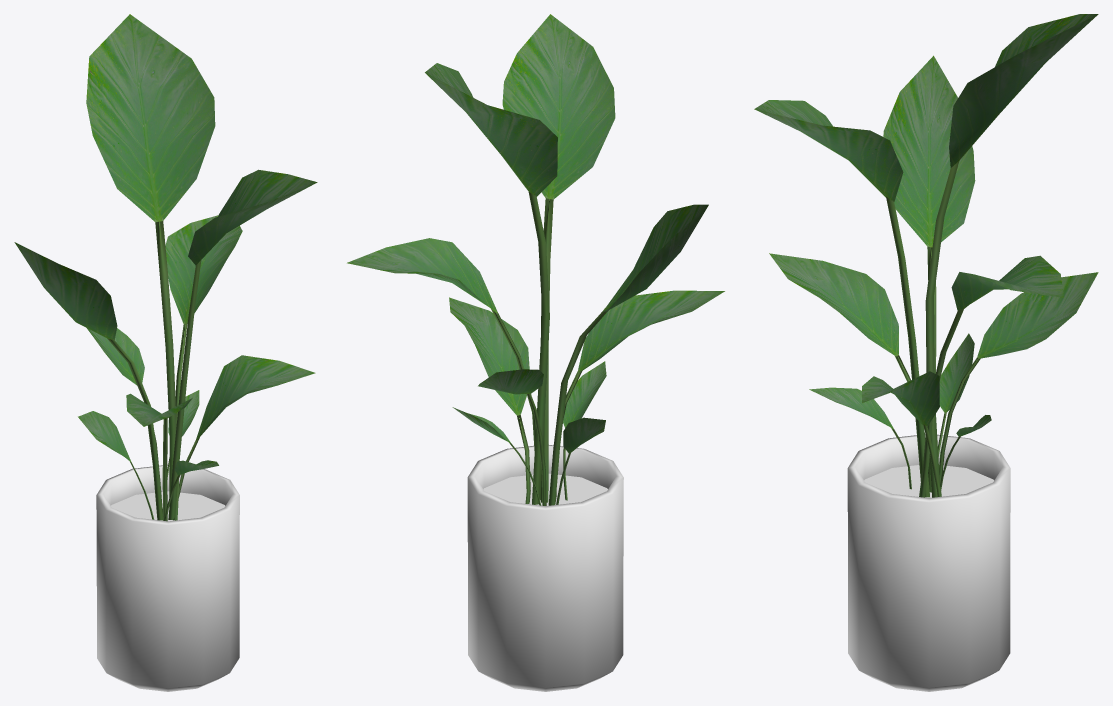
File: Plant.fbx
3 views of the same model, side by side, from view 1: azimuth 30°, elevation 25°; view 2: azimuth 150°, elevation 25°; view 3: azimuth 270°, elevation 25° (orthographic). The views are drawn at different scales.
Visible parts, largest first — view 1: Cube.002, Plane.003, Plane.001, Plane, Plane.010, Plane.005, Circle, Plane.004, Plane.006, Plane.008, Plane.007, Plane.009; view 2: Cube.002, Plane.001, Plane.003, Plane, Plane.010, Plane.004, Plane.005, Circle, Plane.006, Plane.007, Plane.008, Plane.009; view 3: Cube.002, Plane, Plane.003, Plane.001, Plane.004, Plane.006, Plane.010, Plane.005, Circle, Plane.008, Plane.007.
Boxes of the visible parts, x1,y1,x2,y2 form: Cube.002: [96, 464, 239, 691]; Plane.003: [86, 14, 215, 497]; Plane.001: [168, 169, 317, 519]; Plane: [14, 242, 162, 520]; Plane.010: [165, 215, 242, 520]; Plane.005: [178, 355, 315, 497]; Circle: [111, 491, 225, 521]; Plane.004: [126, 393, 192, 521]; Plane.006: [87, 328, 162, 513]; Plane.008: [78, 411, 154, 519]; Plane.007: [164, 460, 218, 520]; Plane.009: [162, 390, 199, 511]; Cube.002: [467, 445, 623, 691]; Plane.001: [502, 14, 615, 502]; Plane.003: [425, 63, 557, 504]; Plane: [548, 204, 708, 505]; Plane.010: [347, 238, 540, 499]; Plane.004: [555, 290, 724, 501]; Plane.005: [449, 297, 530, 503]; Circle: [483, 473, 607, 505]; Plane.006: [478, 369, 546, 505]; Plane.007: [563, 361, 606, 500]; Plane.008: [556, 417, 605, 504]; Plane.009: [452, 407, 541, 505]; Cube.002: [847, 434, 1010, 691]; Plane: [883, 55, 975, 492]; Plane.003: [925, 14, 1098, 497]; Plane.001: [754, 100, 929, 497]; Plane.004: [769, 253, 925, 438]; Plane.006: [939, 272, 1098, 483]; Plane.010: [919, 255, 1063, 497]; Plane.005: [862, 371, 941, 496]; Circle: [864, 465, 993, 497]; Plane.008: [938, 333, 974, 457]; Plane.007: [809, 387, 911, 489].
Bounding box in the file's own units: 464 × 948 × 442.
Materials: 2 (1 with a texture image).
